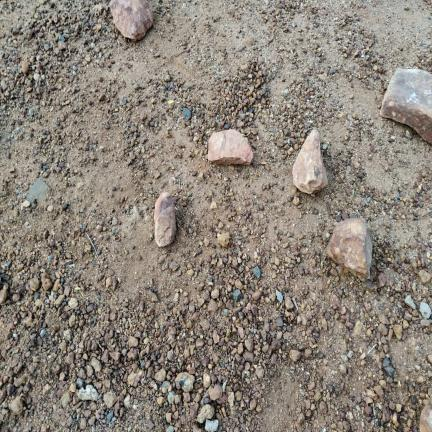Rocks: (381, 69, 431, 143), (328, 219, 372, 281), (293, 130, 327, 194), (110, 0, 153, 41), (208, 130, 253, 165), (154, 192, 176, 246), (26, 179, 50, 202), (175, 372, 194, 392), (420, 400, 431, 431), (197, 404, 214, 423), (78, 385, 98, 401), (208, 384, 223, 401), (9, 396, 23, 414), (128, 370, 143, 386), (217, 232, 230, 248), (383, 358, 394, 376), (41, 273, 52, 290), (420, 302, 431, 319), (204, 419, 218, 432), (104, 393, 116, 408), (419, 269, 431, 284), (405, 295, 416, 309), (91, 358, 102, 372), (61, 392, 70, 409), (353, 321, 363, 336), (376, 273, 386, 287), (393, 325, 402, 340), (155, 369, 166, 381), (290, 350, 301, 362), (0, 288, 8, 304), (128, 336, 139, 347), (379, 313, 389, 325), (167, 391, 175, 404), (245, 339, 253, 352), (253, 266, 261, 278), (22, 61, 29, 74), (276, 290, 283, 303), (228, 392, 234, 407), (69, 298, 78, 308), (233, 290, 241, 301), (124, 395, 130, 409), (184, 108, 191, 120), (293, 196, 299, 206), (167, 426, 174, 431)
